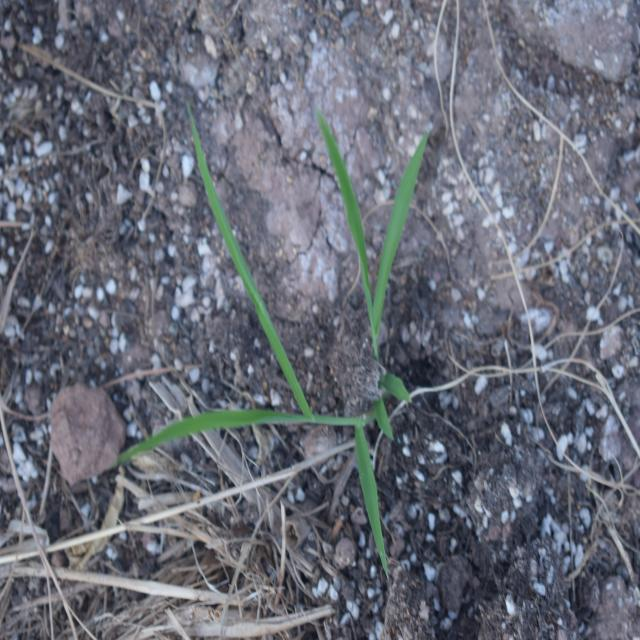crabgrass: (125, 86, 429, 542)
